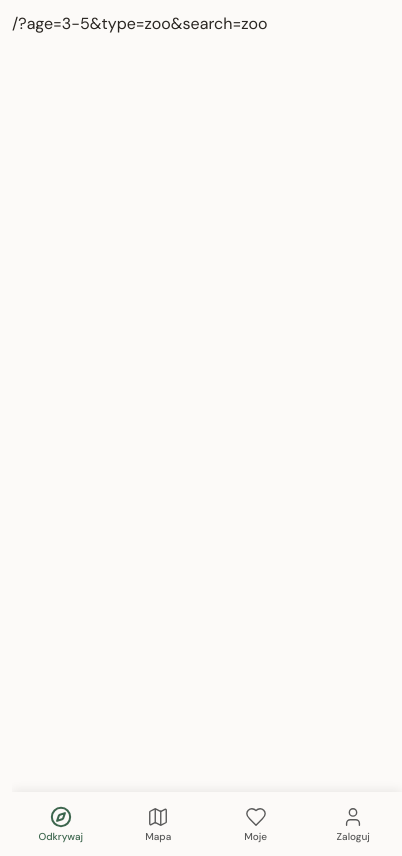
BottomNav — „Mapa” zachowuje filtry strony głównej (FMN-B53) › /?age=3-5&type=zoo → dolna „Mapa” = te same filtry + view=map, jeden wpis historii
Click the button "Mapa" at (158, 824), box [110,792,207,855]
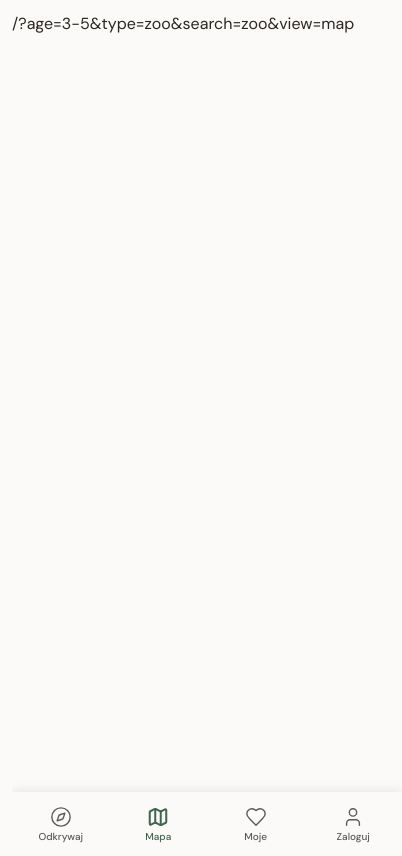
Expected: the text with test id "adres" reads "/?age=3-5&type=zoo&search=zoo&view=map", [12,13,354,34]
